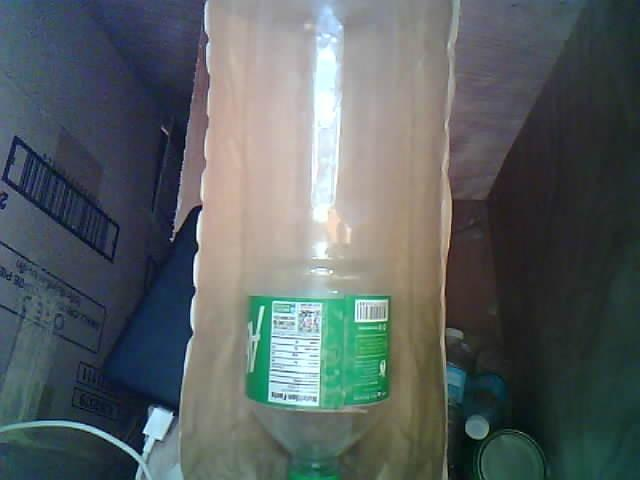large_bottle: (228, 0, 404, 480)
